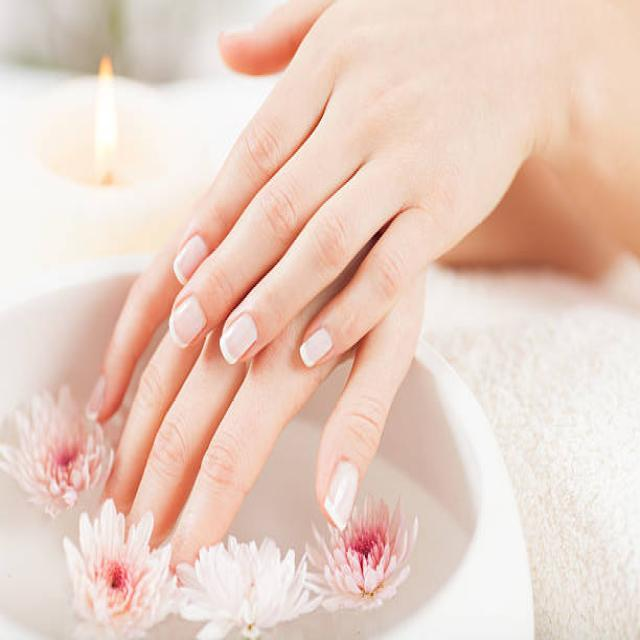Nail: (324, 461, 359, 531), (169, 296, 206, 349), (220, 313, 258, 364), (174, 234, 208, 285), (300, 328, 332, 368), (85, 373, 106, 422)
